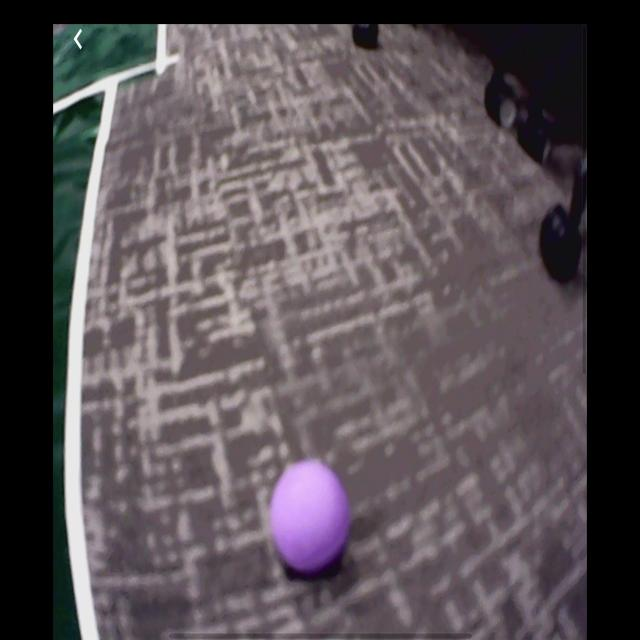ball: (270, 458, 353, 577)
